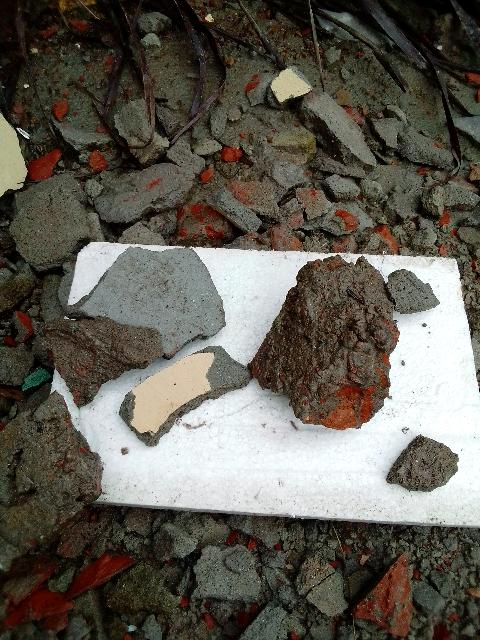cocksheet: (39, 219, 480, 533)
